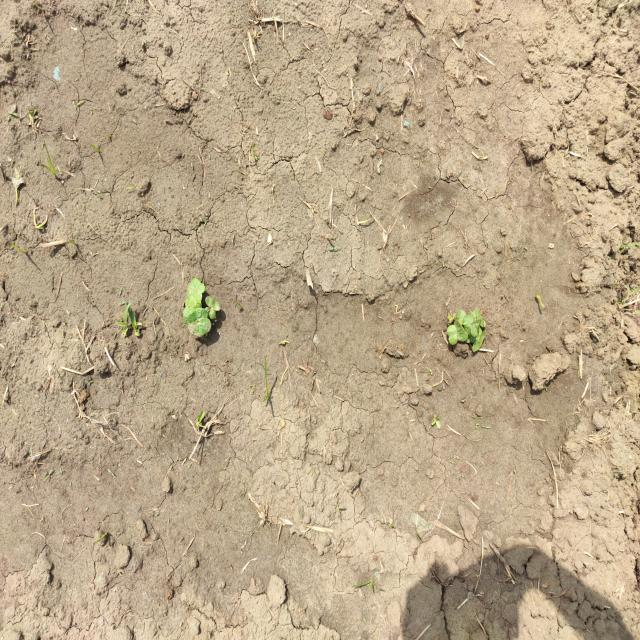seedling_s1: (188, 317, 211, 336), (187, 308, 208, 323), (454, 320, 468, 342), (472, 331, 486, 352), (189, 278, 206, 293), (205, 296, 221, 311), (447, 325, 458, 345), (463, 315, 474, 335), (473, 309, 484, 327), (187, 287, 202, 300), (471, 318, 481, 337), (456, 310, 466, 325), (187, 296, 195, 313), (205, 307, 216, 319), (194, 293, 202, 309)
